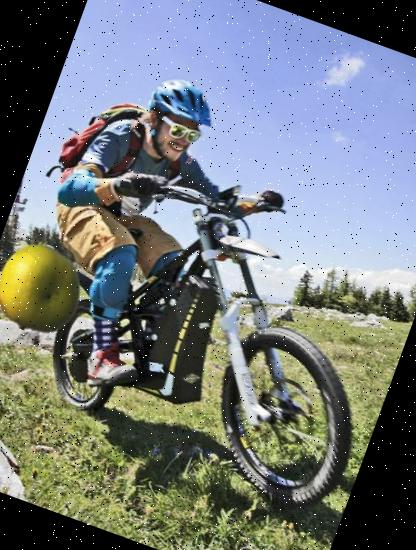Pomelo: (0, 232, 96, 346)
